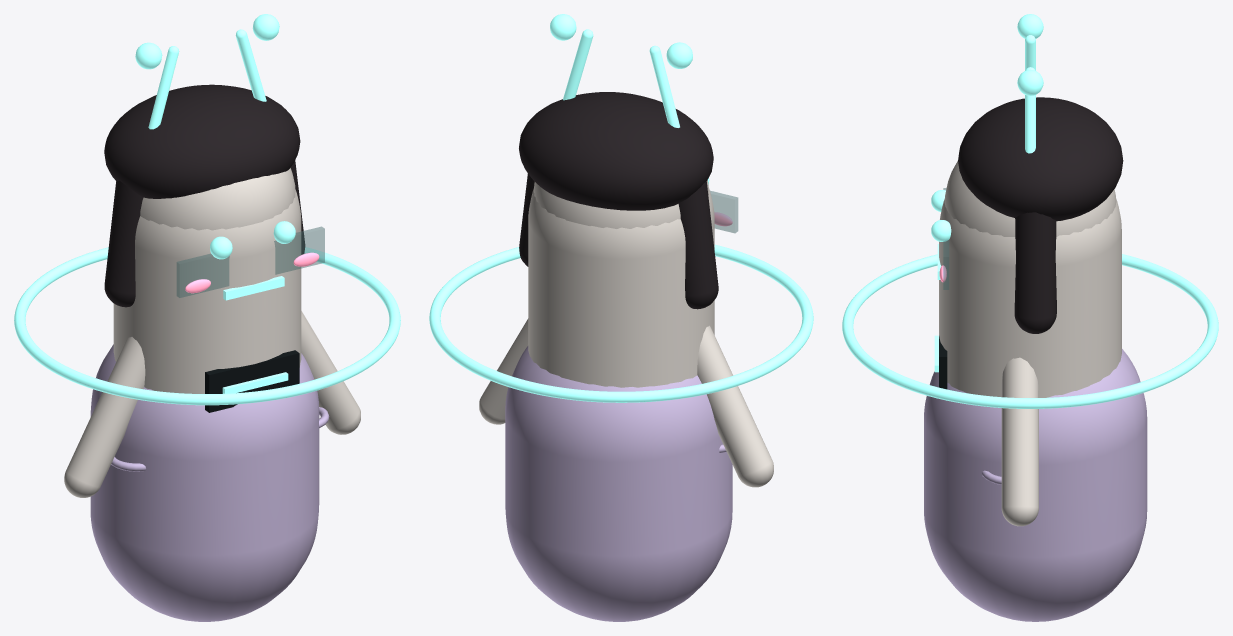
The model's file is desktop-companion.glb.
The picture shows the model from 3 angles, left to right: view 1: azimuth 30°, elevation 25°; view 2: azimuth 150°, elevation 25°; view 3: azimuth 270°, elevation 25°; orthographic projection. The views are drawn at different scales.
Visible parts, largest first — view 1: dress_shell, body_hoodie, hair_cap, floating_emotion_ring, head_round, left_arm, left_side_hair, face_panel, right_arm, chest_status_core, left_antenna, right_antenna (+4 smaller); view 2: dress_shell, body_hoodie, hair_cap, floating_emotion_ring, left_arm, left_side_hair, head_round, right_arm, face_panel, left_antenna, right_antenna, right_side_hair (+2 smaller); view 3: dress_shell, body_hoodie, hair_cap, floating_emotion_ring, right_arm, right_side_hair, head_round, right_antenna, right_antenna_tip, left_antenna_tip.
Part boxes in pixels (box(x1,y1,x2,y2)): dress_shell: box(90, 344, 319, 621); body_hoodie: box(113, 190, 301, 393); hair_cap: box(104, 84, 300, 198); floating_emotion_ring: box(14, 247, 400, 405); head_round: box(140, 168, 295, 230); left_arm: box(64, 337, 145, 497); left_side_hair: box(104, 180, 143, 307); face_panel: box(176, 226, 324, 297); right_arm: box(301, 311, 360, 434); chest_status_core: box(205, 350, 299, 412); left_antenna: box(148, 46, 179, 129); right_antenna: box(235, 29, 266, 101); dress_shell: box(505, 346, 732, 621); body_hoodie: box(528, 187, 714, 387); hair_cap: box(519, 92, 713, 210); floating_emotion_ring: box(429, 244, 813, 402); left_arm: box(697, 325, 773, 487); left_side_hair: box(678, 181, 718, 309); head_round: box(534, 180, 708, 228); right_arm: box(479, 318, 528, 424); face_panel: box(710, 190, 738, 233); left_antenna: box(649, 45, 679, 127); right_antenna: box(563, 29, 593, 100); right_side_hair: box(519, 174, 534, 266); dress_shell: box(924, 349, 1147, 621); body_hoodie: box(939, 199, 1121, 397); hair_cap: box(958, 97, 1123, 221); floating_emotion_ring: box(842, 254, 1218, 408); right_arm: box(1001, 357, 1038, 526); right_side_hair: box(1014, 212, 1056, 333); head_round: box(944, 161, 1116, 236); right_antenna: box(1025, 67, 1035, 153); right_antenna_tip: box(1017, 69, 1043, 95); left_antenna_tip: box(1017, 14, 1043, 38).
Size of the model in its own units: 74.2 by 124 by 74.2.
